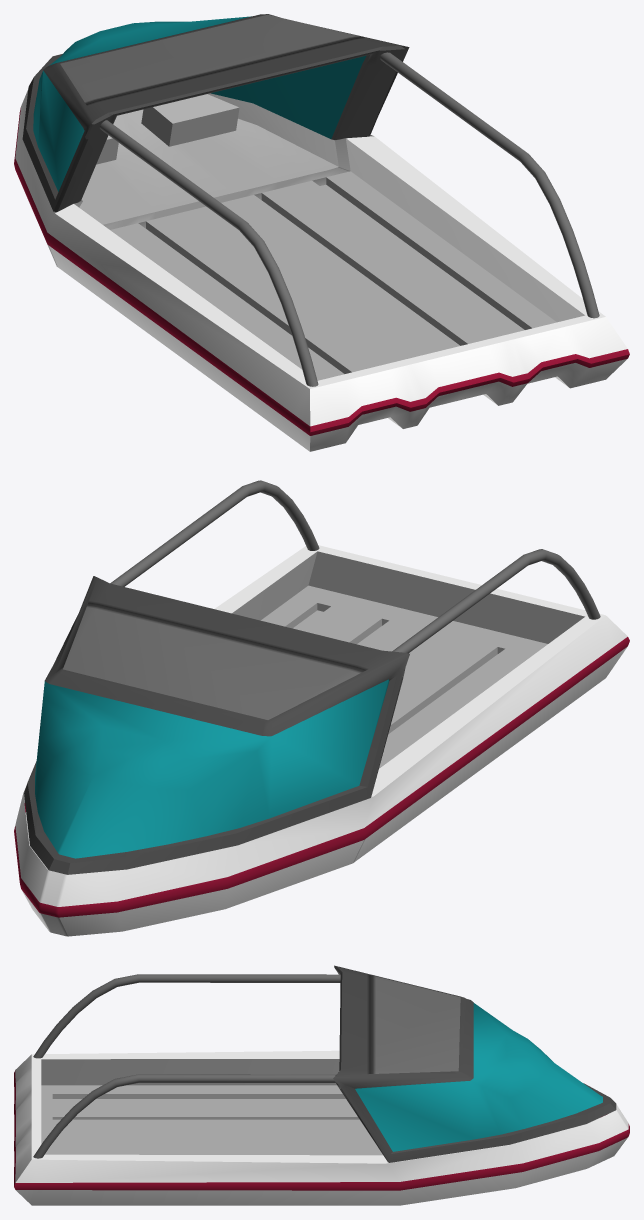
Rendered from Bateau.fbx.
The picture shows the model from 3 angles, top to bottom: view 1: azimuth 30°, elevation 25°; view 2: azimuth 150°, elevation 25°; view 3: azimuth 270°, elevation 25°; orthographic projection. The views are drawn at different scales.
Visible parts, largest first — view 1: Box001; view 2: Box001; view 3: Box001.
Part boxes in pixels (x1,y1,x2,y2): Box001: (14, 14, 629, 451); Box001: (14, 480, 629, 936); Box001: (14, 965, 629, 1205).
Size of the model in its own units: 301 by 162 by 688.
